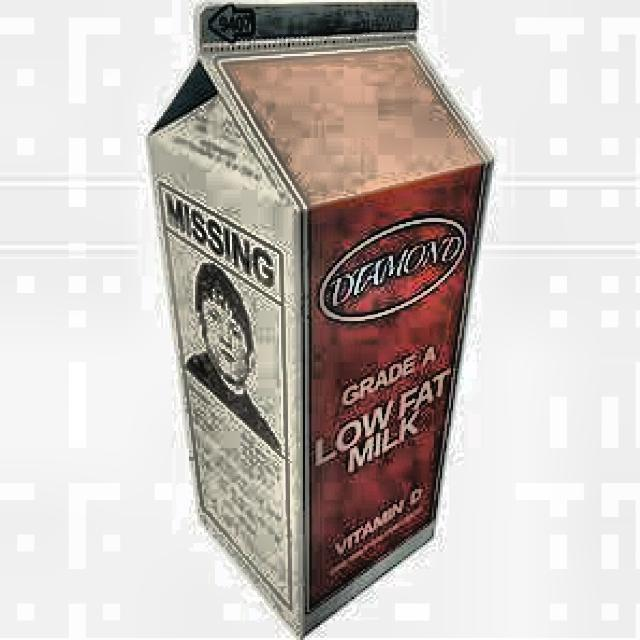cardboard: (142, 0, 494, 638)
